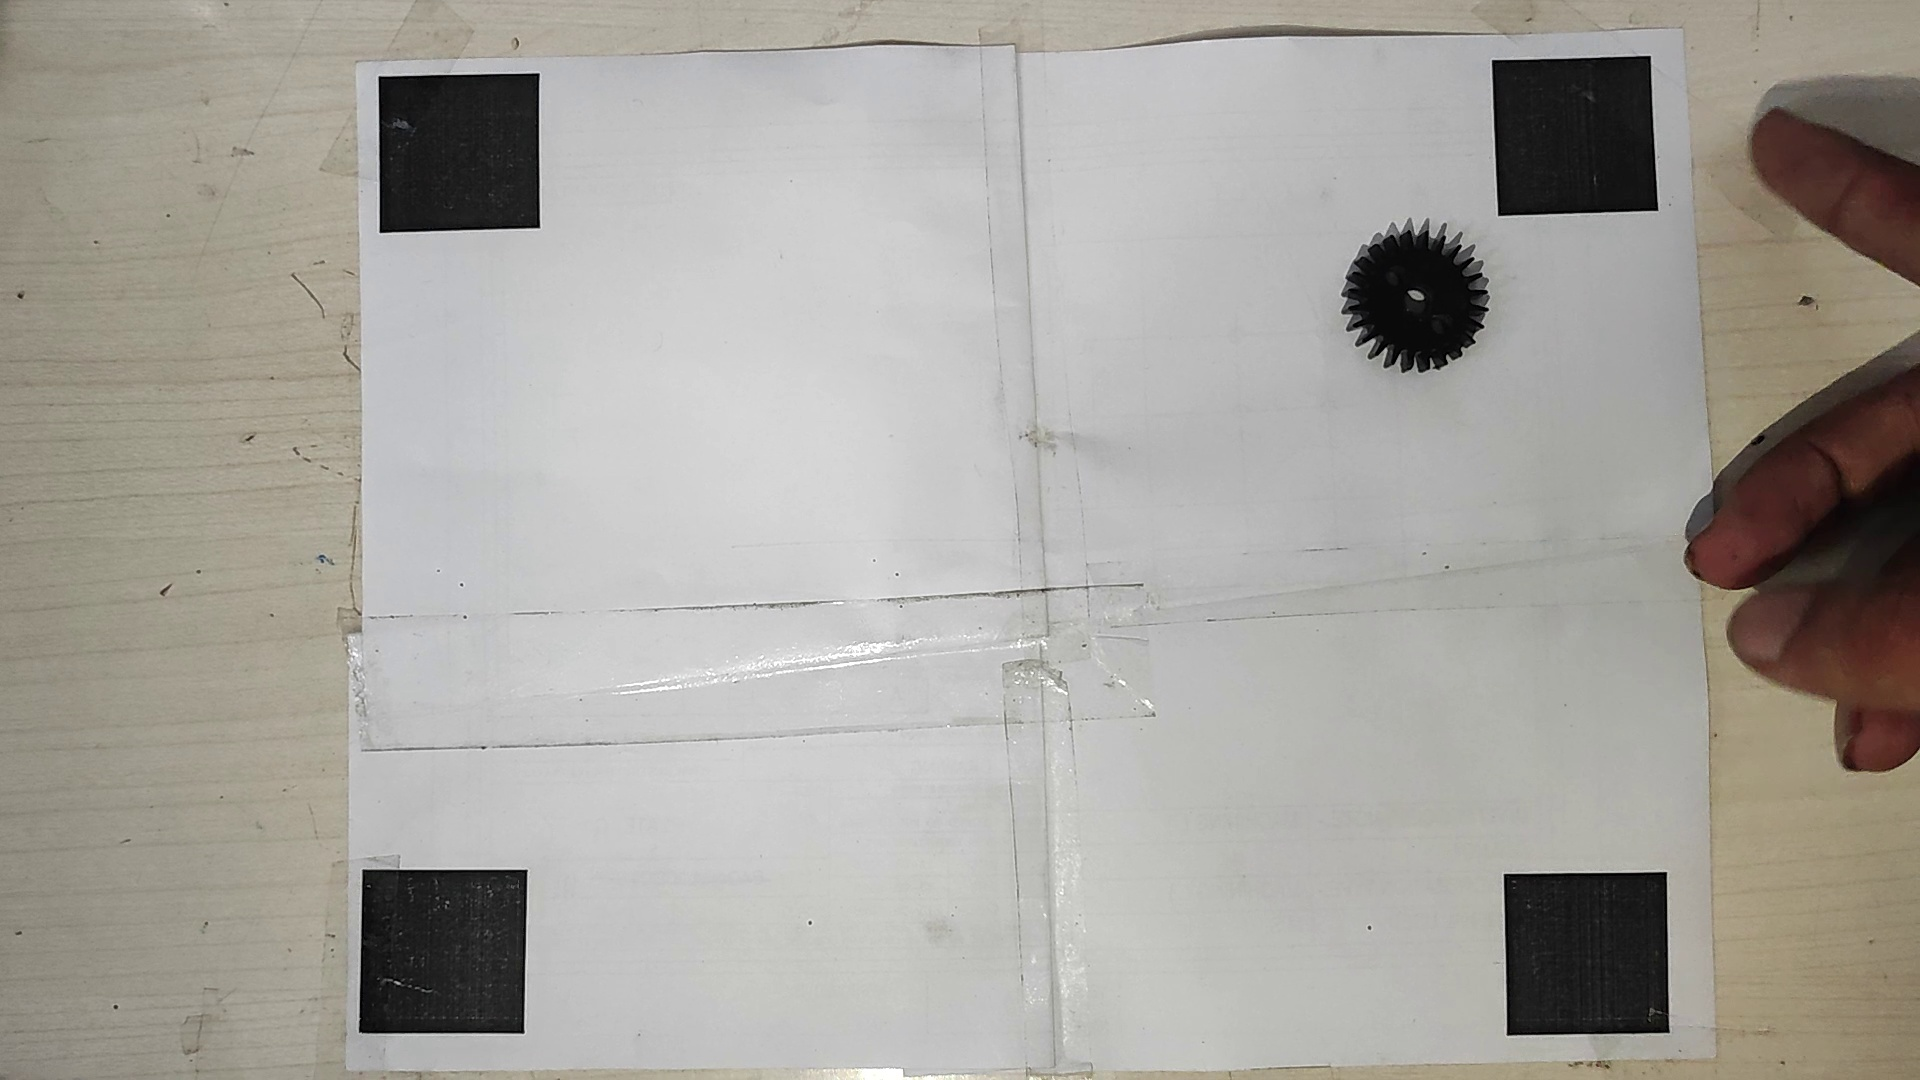Gear: (1337, 226, 1492, 370)
